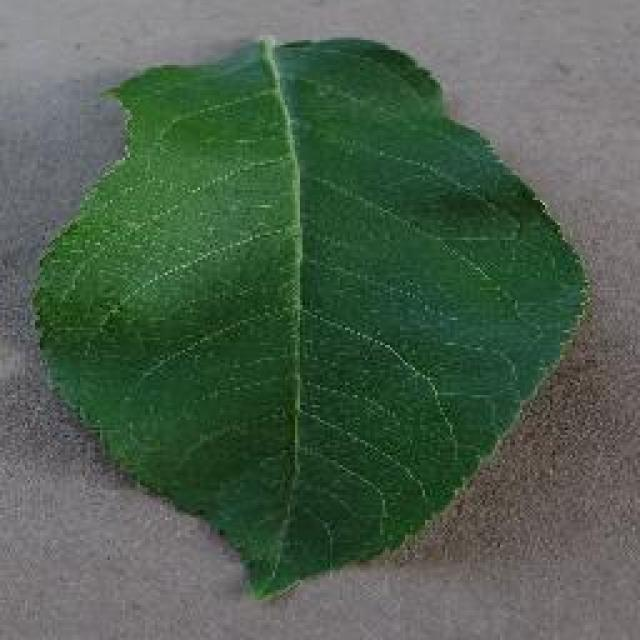apple healthy: (28, 32, 592, 600)
